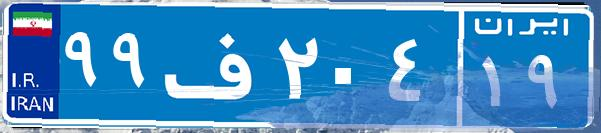0: (330, 28, 385, 110)
1: (475, 38, 525, 113)
2: (273, 28, 330, 110)
4: (385, 28, 445, 110)
9: (57, 26, 110, 107), (110, 28, 158, 105), (525, 38, 570, 115)
ف: (158, 15, 273, 115)
